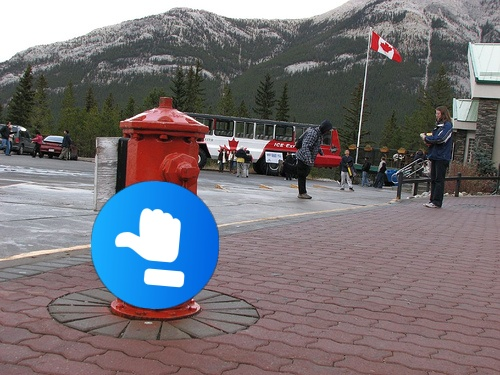like: (91, 181, 219, 309)
